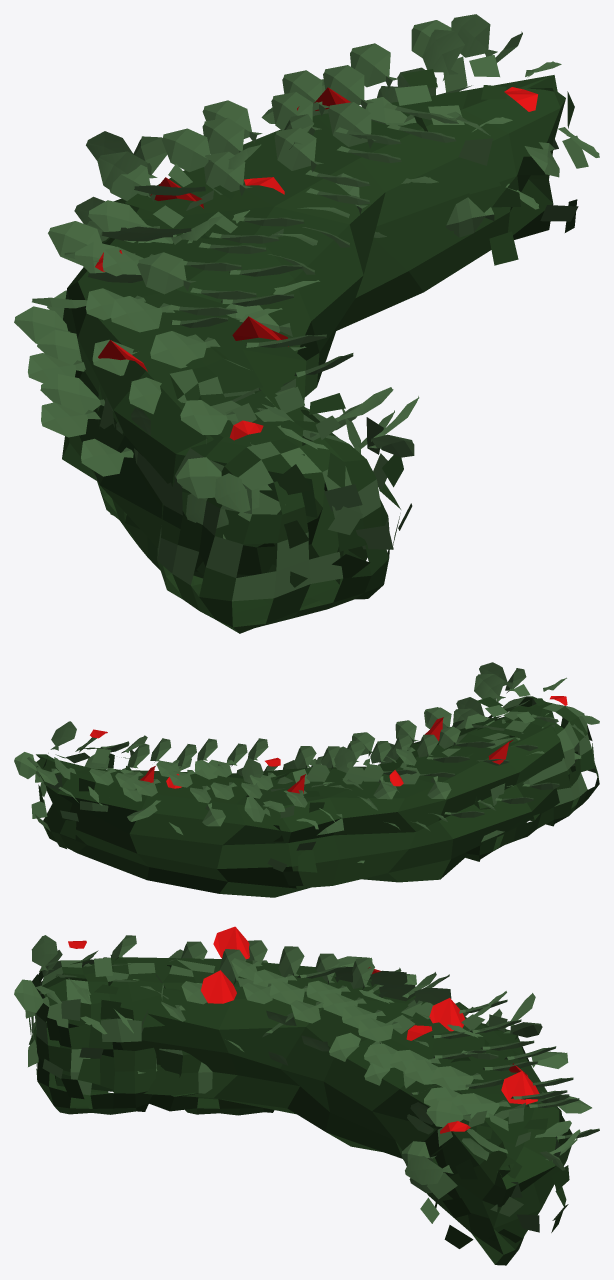
File: HedgeCurved.glb
3 views of the same model, one above another, from view 1: azimuth 30°, elevation 25°; view 2: azimuth 150°, elevation 25°; view 3: azimuth 270°, elevation 25° (orthographic). The views are drawn at different scales.
Visible parts, largest first — view 1: HedgeCurved; view 2: HedgeCurved; view 3: HedgeCurved.
Part boxes in pixels (box(x1,y1,x2,y2)): HedgeCurved: box(14, 14, 599, 633); HedgeCurved: box(14, 662, 599, 897); HedgeCurved: box(14, 926, 599, 1265).
Size of what is drawn, in the model's own units: 9.94 by 2.82 by 10.15.
1 material, 1 textured.
